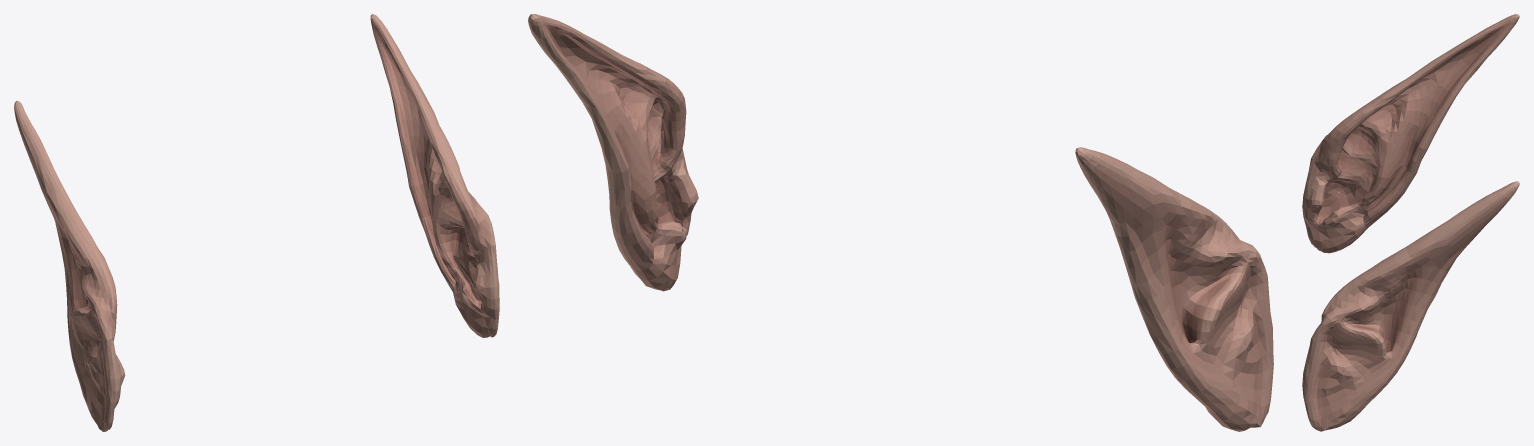
Rendered from ewm_elfears.glb.
The picture shows the model from 3 angles, left to right: view 1: azimuth 30°, elevation 25°; view 2: azimuth 150°, elevation 25°; view 3: azimuth 270°, elevation 25°; orthographic projection. The views are drawn at different scales.
Parts seen in each view (by area): view 1: ewm_elfears; view 2: ewm_elfears; view 3: ewm_elfears.
Part boxes in pixels (<box>): ewm_elfears: <box>14,14,499,431</box>; ewm_elfears: <box>528,14,1273,431</box>; ewm_elfears: <box>1302,14,1519,431</box>.
Size of the model in its own units: 0.1799 by 0.11 by 0.0889.
1 material, 1 textured.
